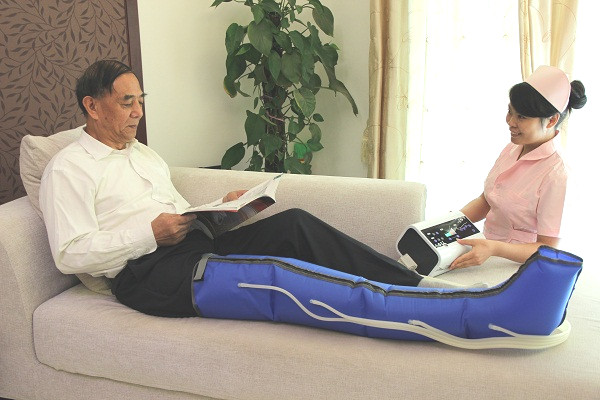patient: (39, 59, 583, 350)
sequential_compression: (192, 209, 584, 350)
sofa: (1, 166, 600, 400)
staff: (448, 66, 587, 272)
